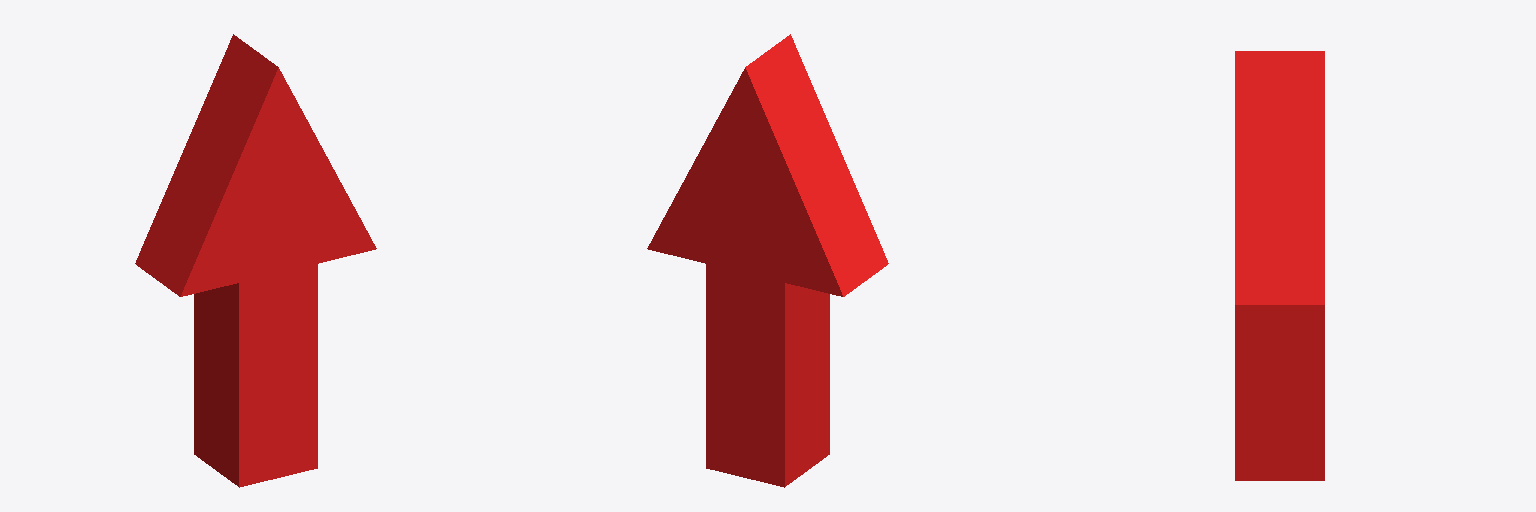
File: redarrow.obj
The picture shows the model from 3 angles: view 1: azimuth 30°, elevation 25°; view 2: azimuth 150°, elevation 25°; view 3: azimuth 270°, elevation 25°; orthographic projection.
Parts seen in each view (by area): view 1: redarrow; view 2: redarrow; view 3: redarrow.
Part boxes in pixels (x1,y1,x2,y2): redarrow: (135, 34, 376, 487); redarrow: (647, 34, 888, 487); redarrow: (1235, 51, 1324, 480).
Size of the model in its own units: 50 by 99.7 by 20.